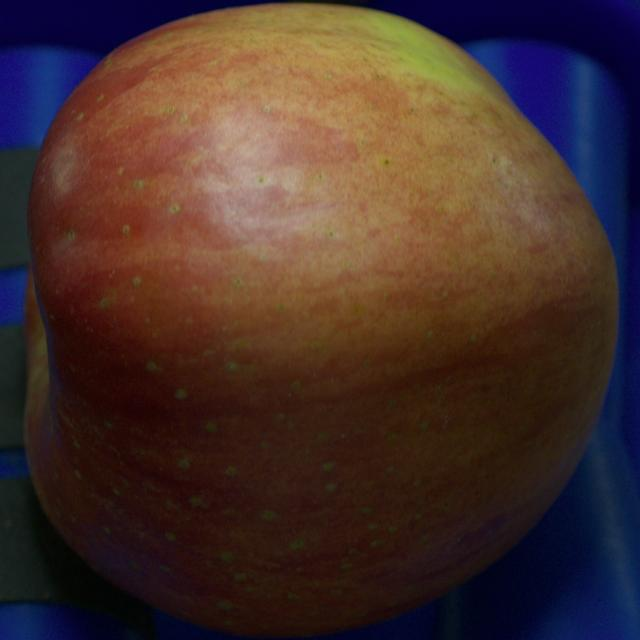apple: (24, 4, 618, 636)
